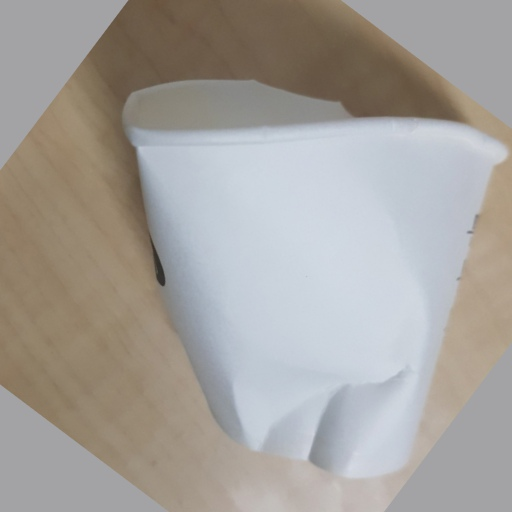Paper_1: (121, 75, 508, 479)
